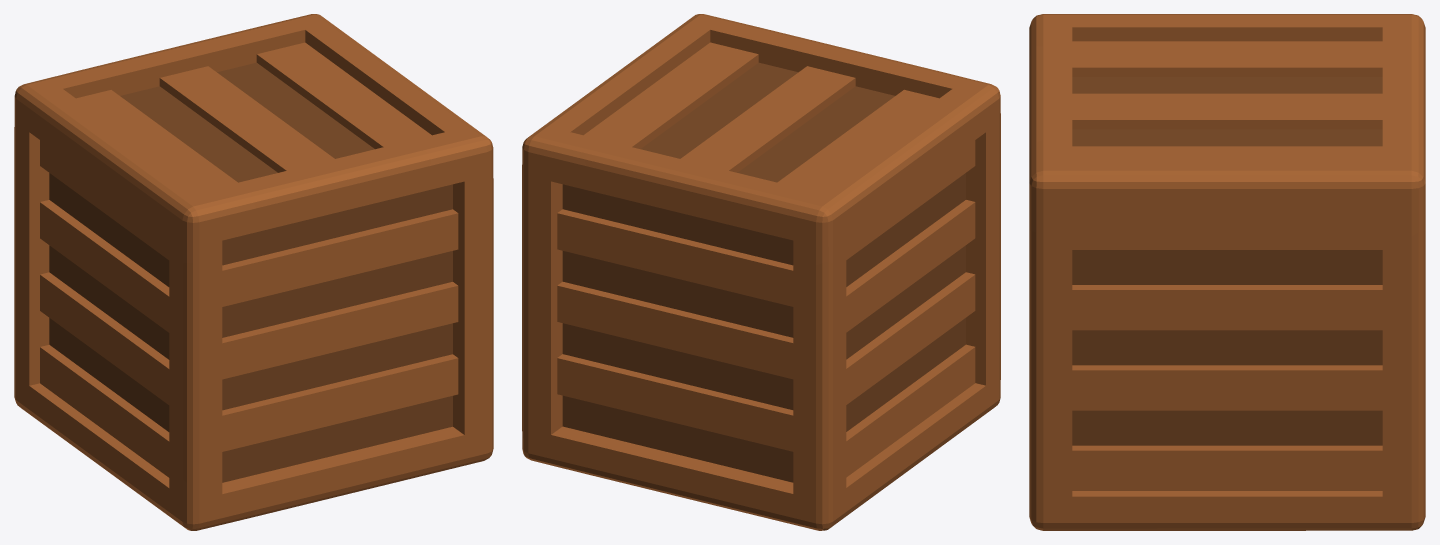
3 views of the same model, side by side, from view 1: azimuth 30°, elevation 25°; view 2: azimuth 150°, elevation 25°; view 3: azimuth 270°, elevation 25° (orthographic). The views are drawn at different scales.
Visible parts, largest first — view 1: Cube; view 2: Cube; view 3: Cube.
Part boxes in pixels (bbox=[...]): Cube: bbox=[14, 14, 493, 530]; Cube: bbox=[522, 14, 1000, 530]; Cube: bbox=[1029, 14, 1425, 530].
Size of the model in its own units: 200 by 200 by 200.
